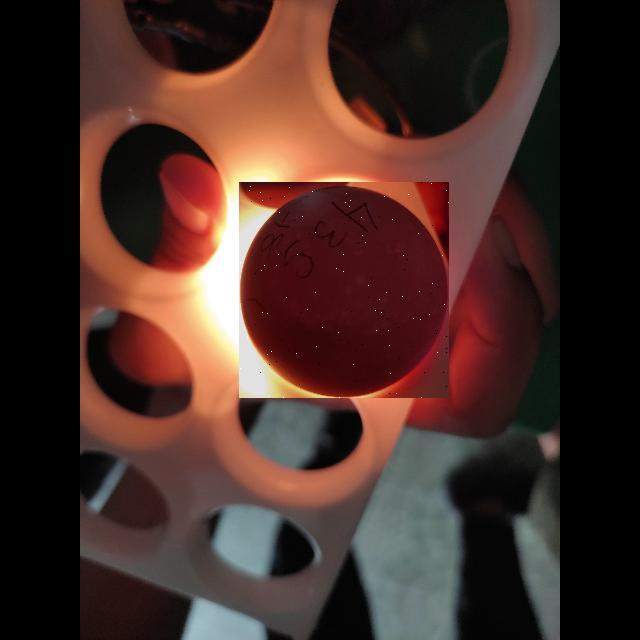Fertile: (239, 182, 449, 398)
